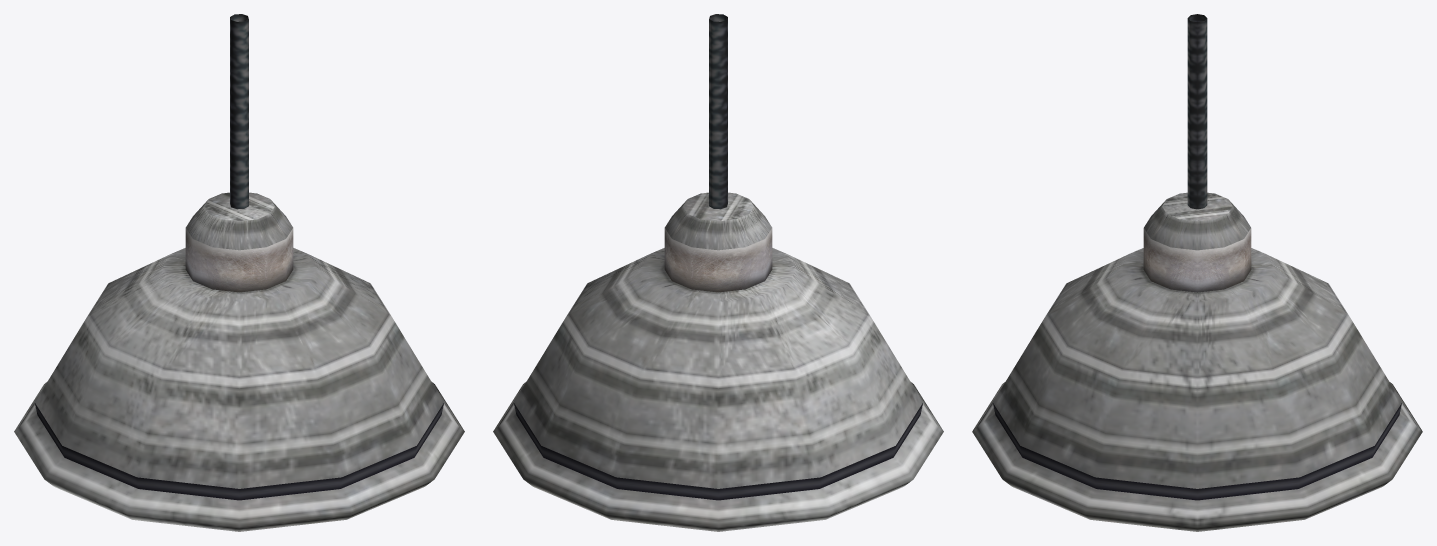
File: HangingLight.fbx
3 views of the same model, side by side, from view 1: azimuth 30°, elevation 25°; view 2: azimuth 150°, elevation 25°; view 3: azimuth 270°, elevation 25° (orthographic).
Visible parts, largest first — view 1: Cylinder.060, Cylinder.010; view 2: Cylinder.060, Cylinder.010; view 3: Cylinder.060, Cylinder.010.
Part boxes in pixels (x1,y1,x2,y2): Cylinder.060: [14, 192, 464, 531]; Cylinder.010: [230, 14, 248, 209]; Cylinder.060: [493, 192, 943, 531]; Cylinder.010: [709, 14, 727, 209]; Cylinder.060: [972, 192, 1422, 531]; Cylinder.010: [1187, 14, 1207, 209].
Bounding box in the file's own units: 96.86 × 100 × 96.86.
Materials: 4 (3 with a texture image).
